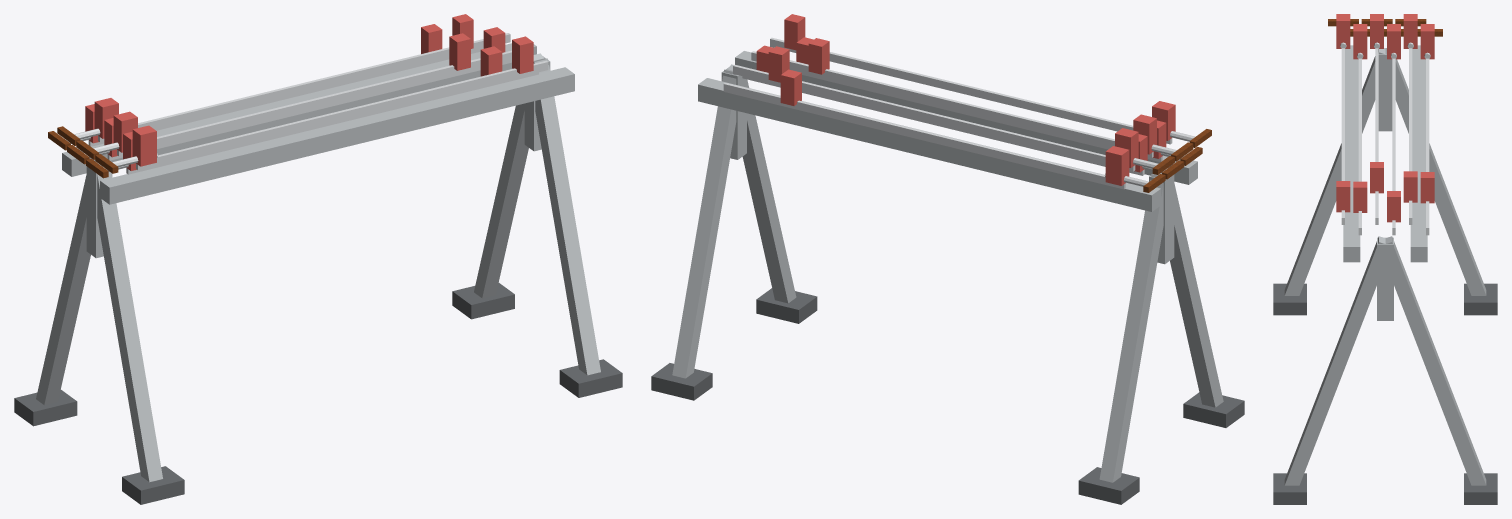
File: woodworking-workshop-and-joinery-woodworking-workshop--0fc38a58__34255.glb
The picture shows the model from 3 angles, left to right: view 1: azimuth 30°, elevation 25°; view 2: azimuth 150°, elevation 25°; view 3: azimuth 270°, elevation 25°; orthographic projection. The views are drawn at different scales.
Parts seen in each view (by area): view 1: woodworking-workshop-and-joinery-clamp-rack-with-sash-clamps (×5); view 2: woodworking-workshop-and-joinery-clamp-rack-with-sash-clamps (×5); view 3: woodworking-workshop-and-joinery-clamp-rack-with-sash-clamps (×5).
Part boxes in pixels (box(x1,y1,x2,y2)): woodworking-workshop-and-joinery-clamp-rack-with-sash-clamps (×5): box(14, 14, 622, 504); woodworking-workshop-and-joinery-clamp-rack-with-sash-clamps (×5): box(651, 14, 1244, 504); woodworking-workshop-and-joinery-clamp-rack-with-sash-clamps (×5): box(1273, 14, 1497, 504).
Size of the model in its own units: 1.76 by 1.17 by 0.7999.
Materials: 5 (1 with a texture image).
